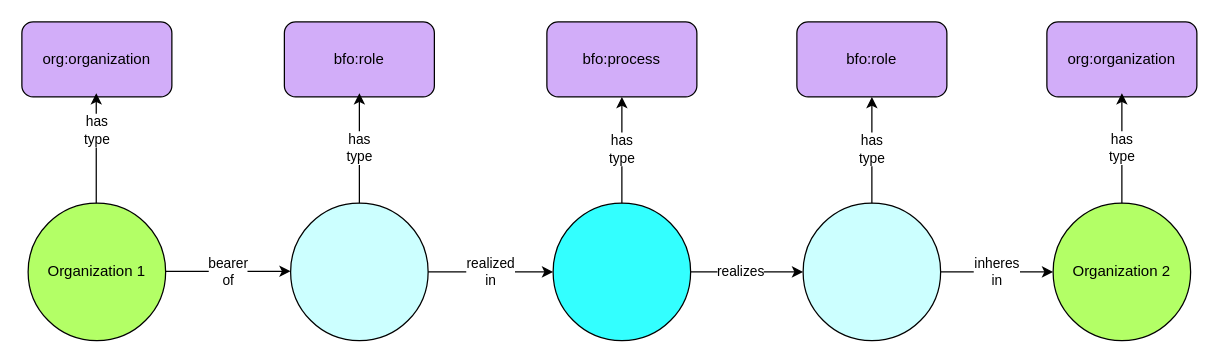
Image size: 1219x363. Some labels were removed from this diagram. Each missing label, with the box of its shape:
Organizational Member Grantor Role: (802, 202, 941, 341)
Organizational Member Role: (289, 202, 428, 341)
Organizational Membership: (552, 202, 691, 341)
